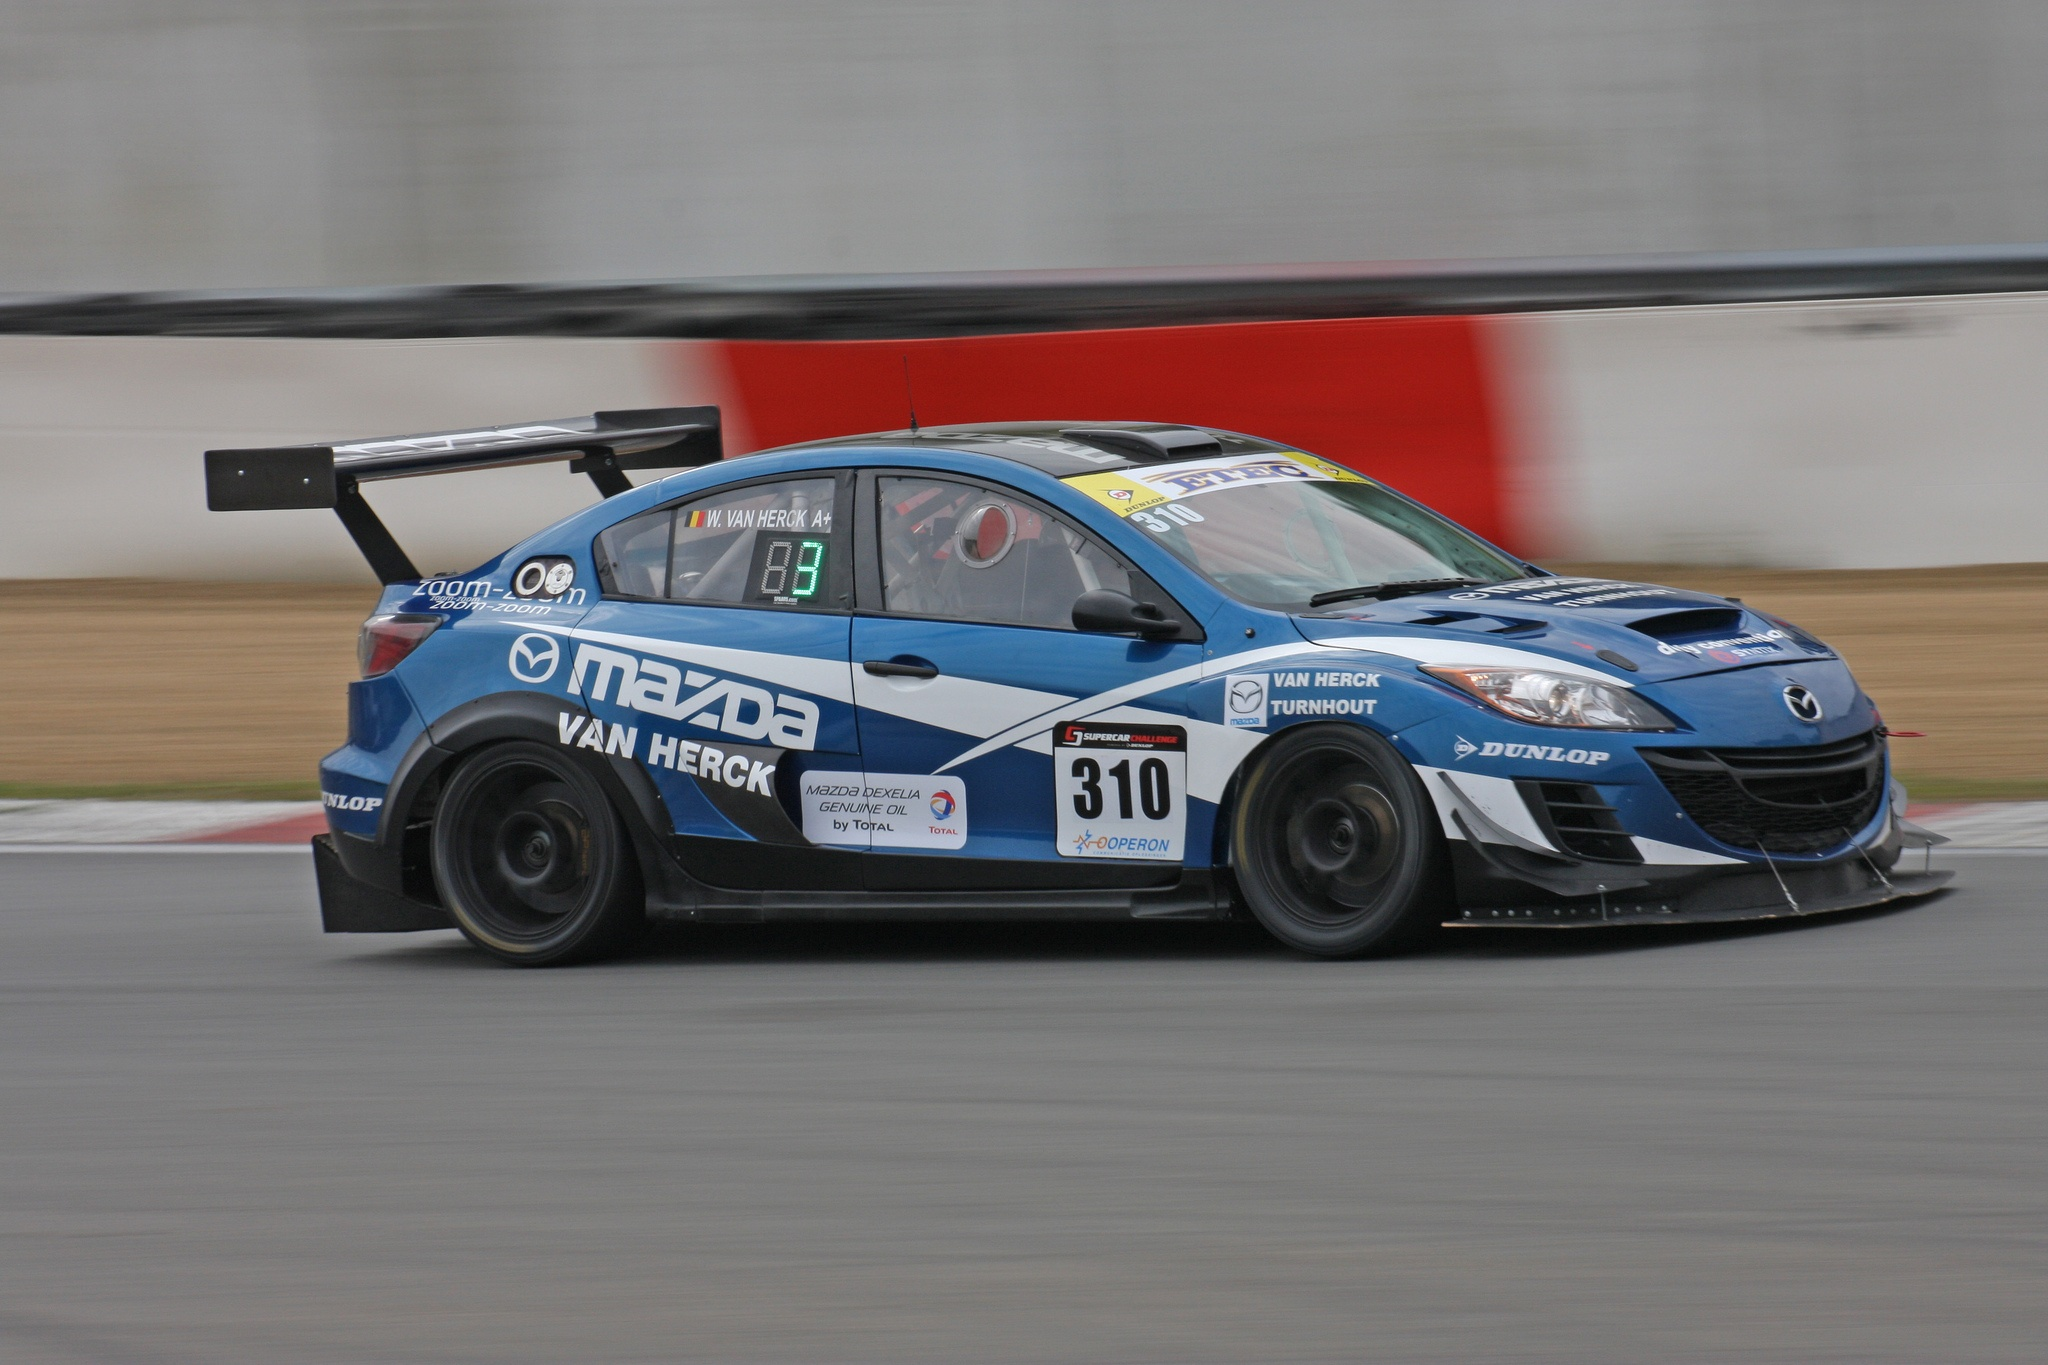racing car: (213, 376, 1949, 973)
